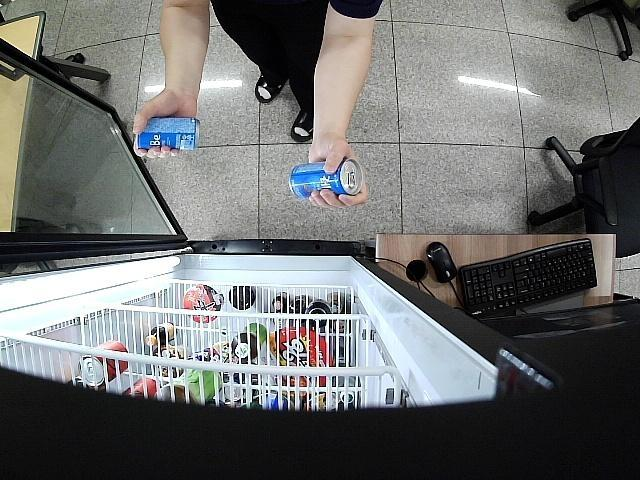15_letsbe: (290, 159, 362, 198), (138, 117, 200, 150)
